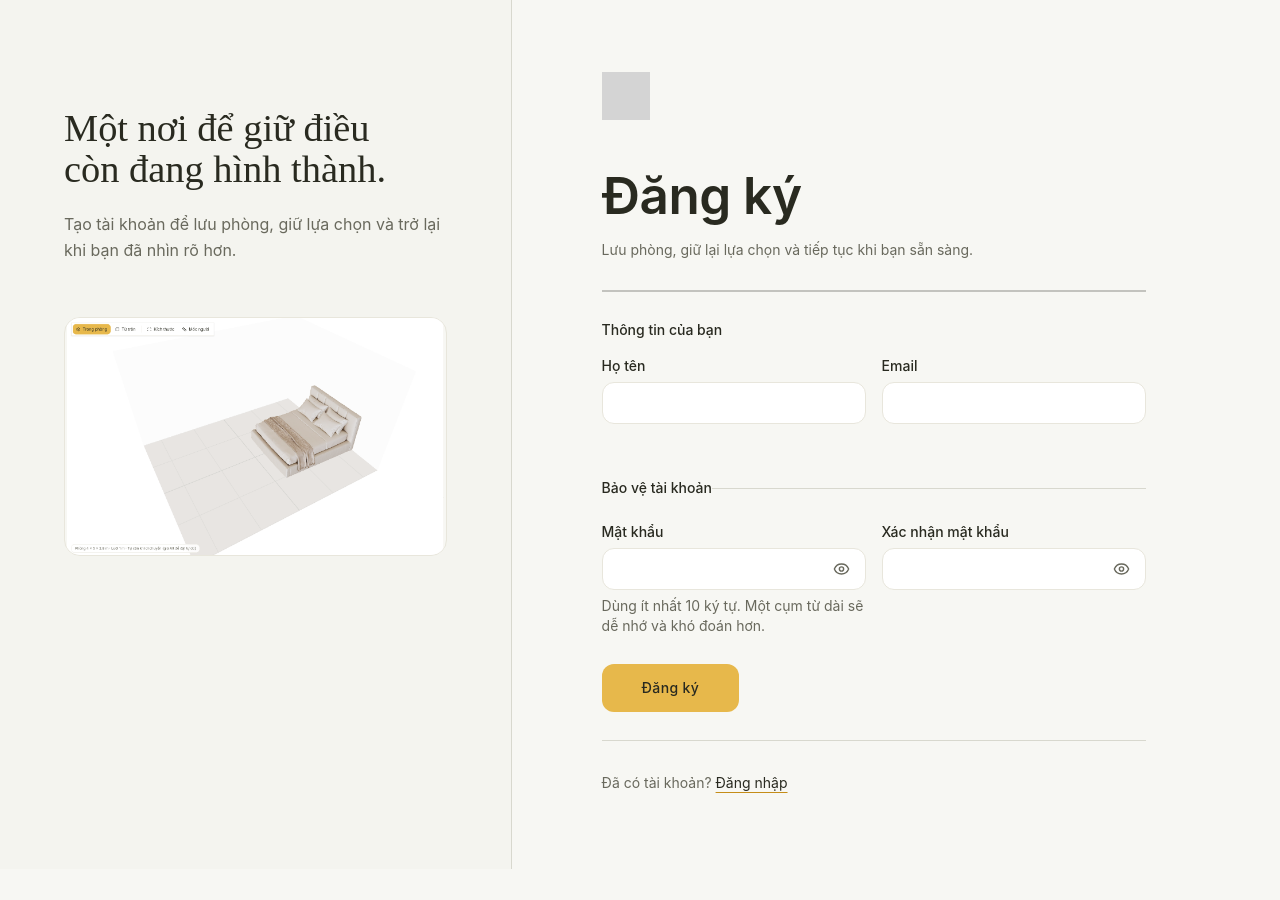
RegisterPage › shows validation errors when submitting an empty form
This screenshot has width=1280, height=900.
Click the button "Đăng ký": (670, 688) [602,664,739,712]
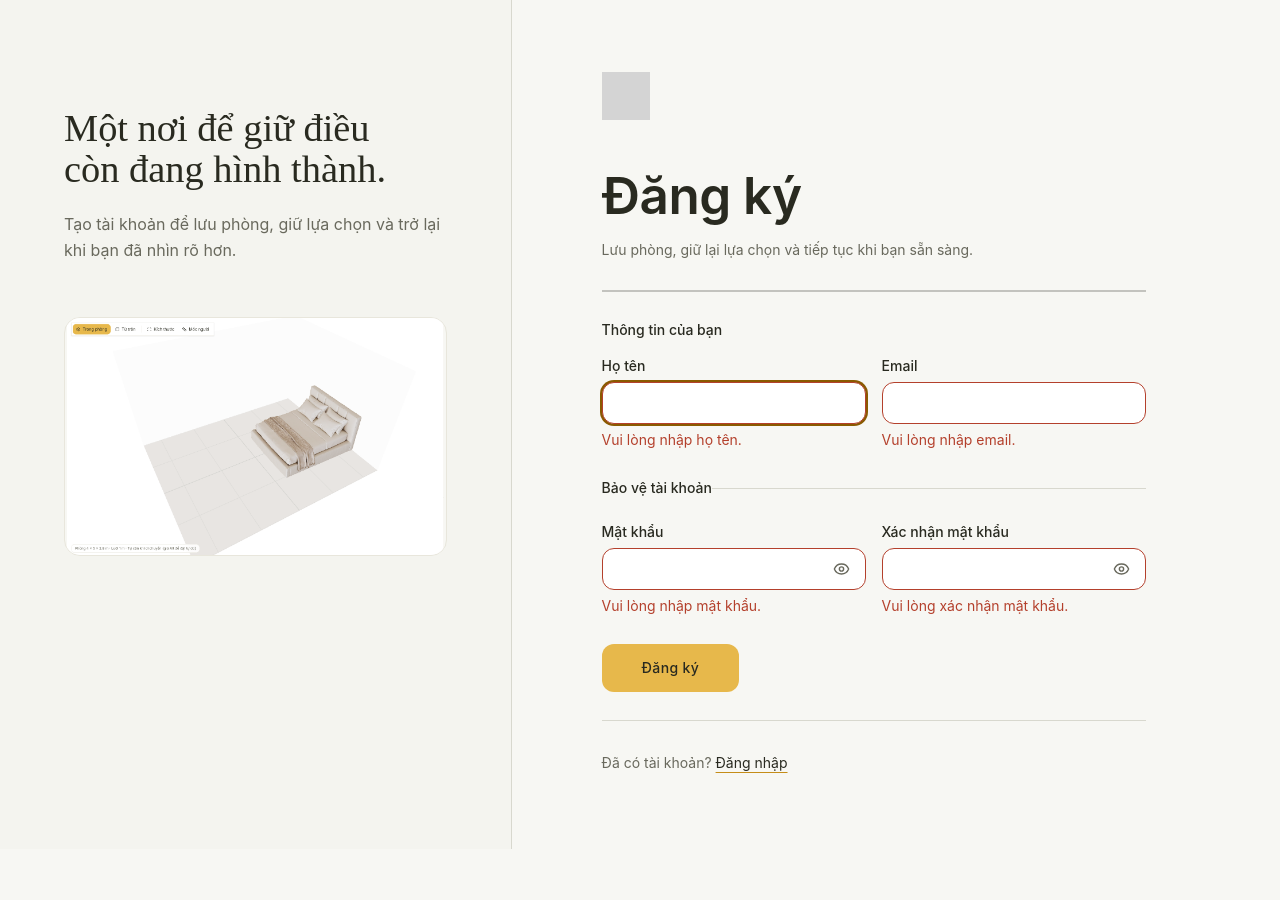
Expected: the text "Vui lòng nhập họ tên." is shown, [602,431,742,448]
Expected: the text "Vui lòng nhập email." is shown, [882,431,1016,448]
Expected: the text "Vui lòng nhập mật khẩu." is shown, [602,597,761,614]
